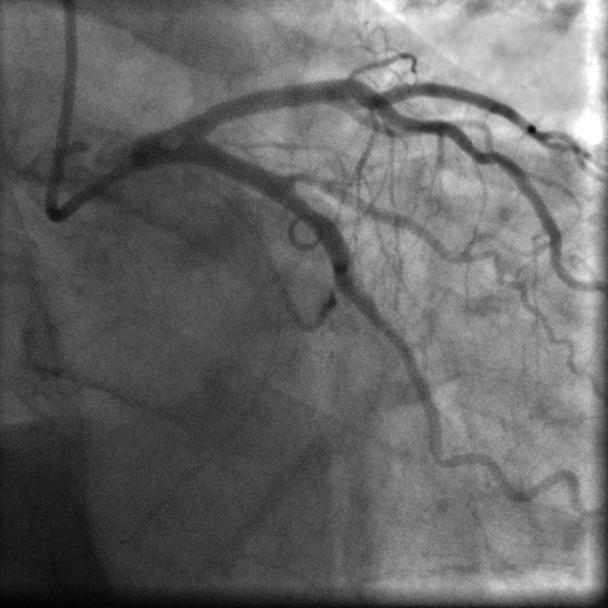Stenosis: (284, 166, 329, 195)
